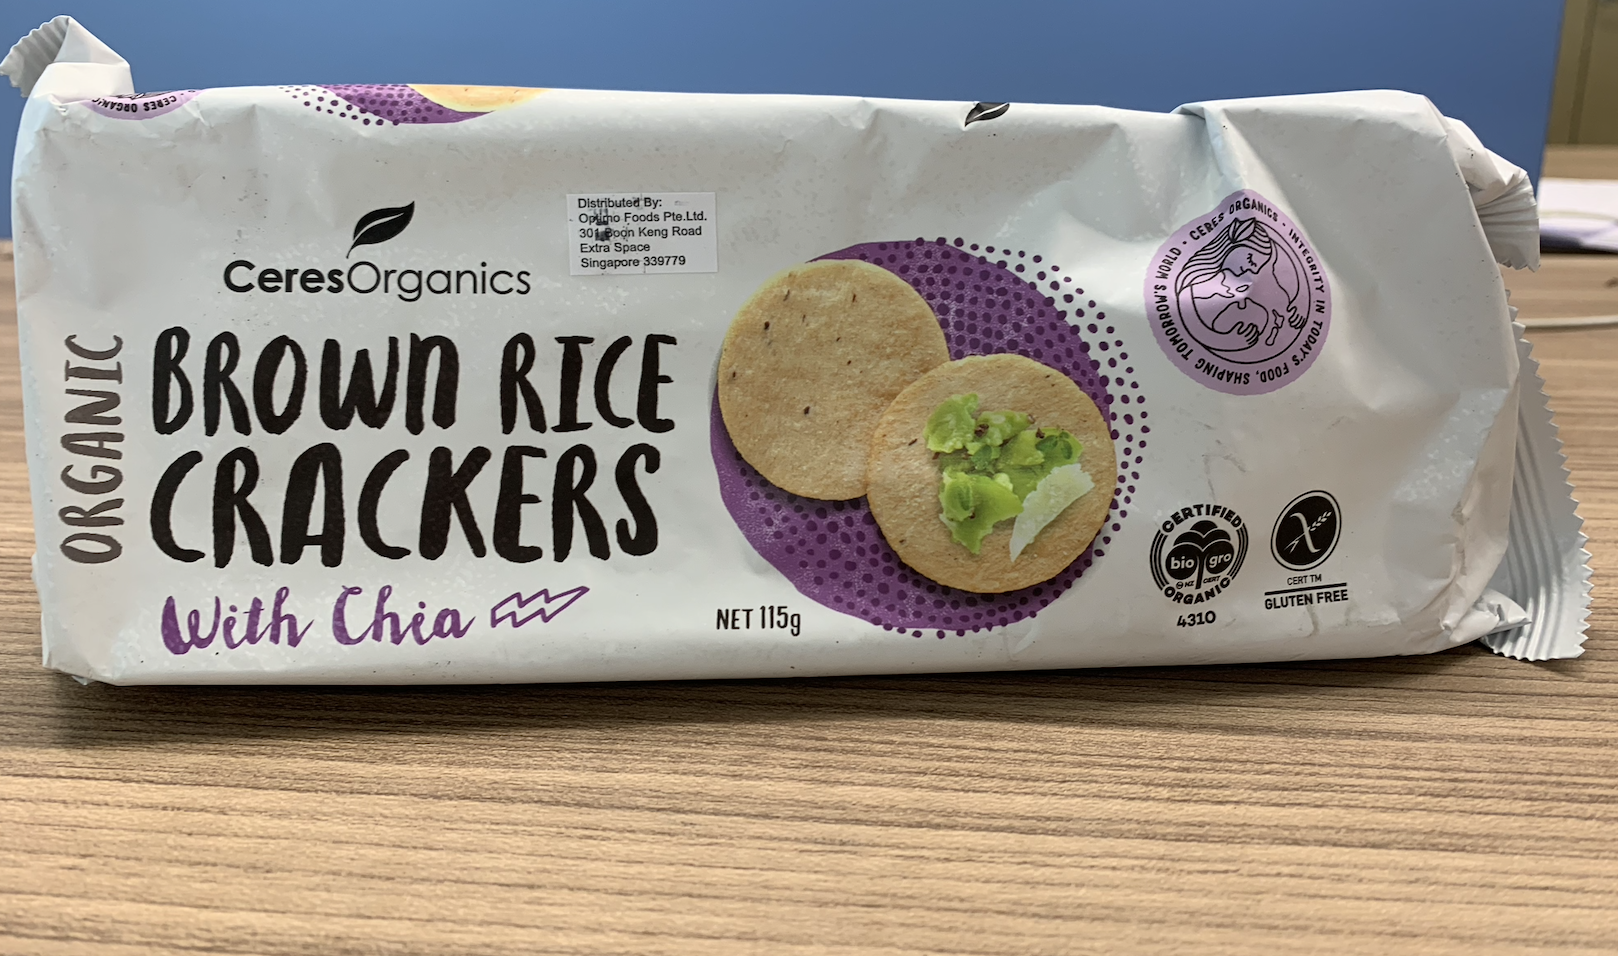crackers_100g-199g: (51, 142, 1451, 658)
